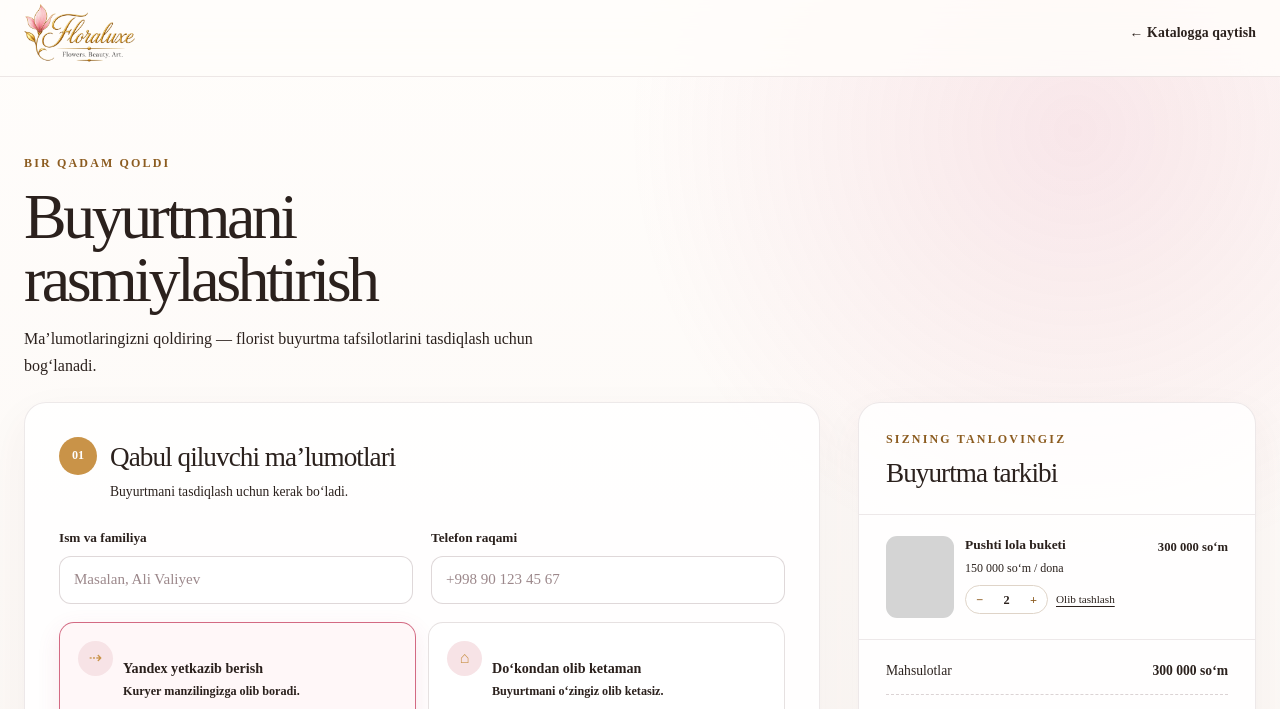
it: CheckoutClient › keeps the cart intact and announces a safe server error on failure
Expected: the heading "Pushti lola buketi" is shown, x1=965 y1=537 x2=1066 y2=552
Type "Ali Valiyev" into the field labelled "Ism va familiya" at point(236, 580), box x1=59 y1=556 x2=413 y2=604
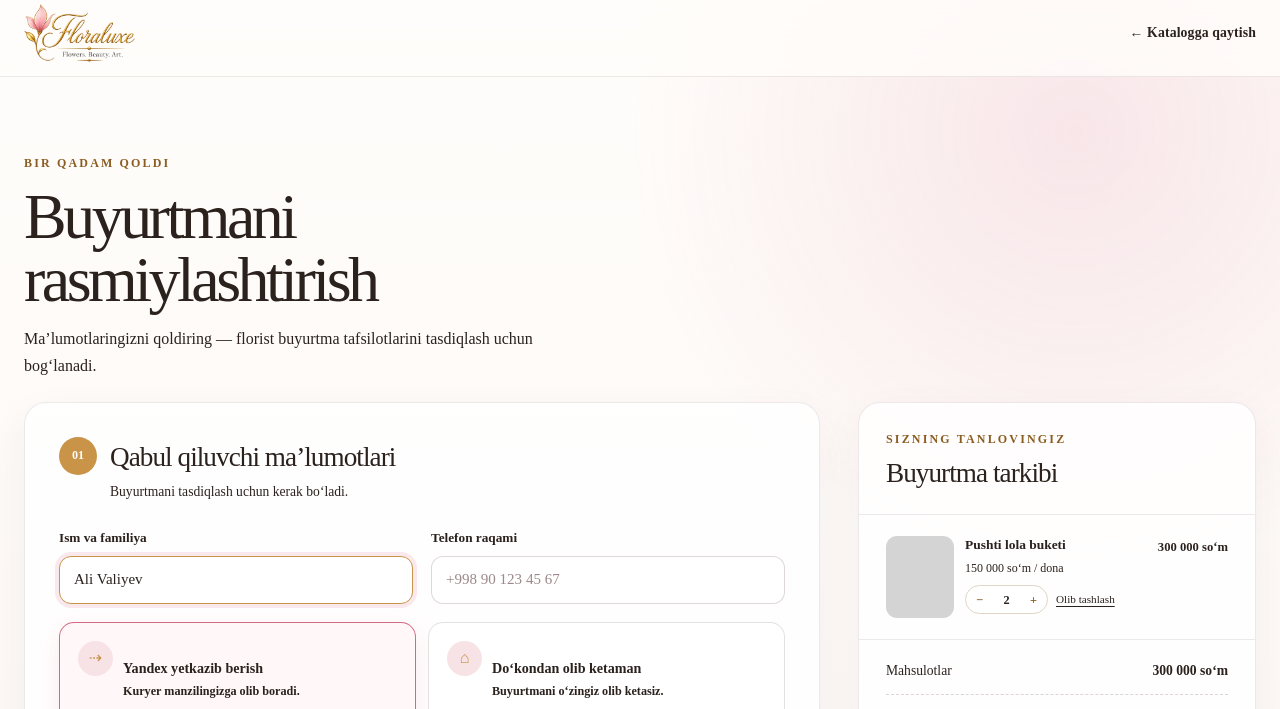
Type "+998901234567" into the field labelled "Telefon raqami" at point(608, 580), box x1=431 y1=556 x2=785 y2=604
(page scrolled)
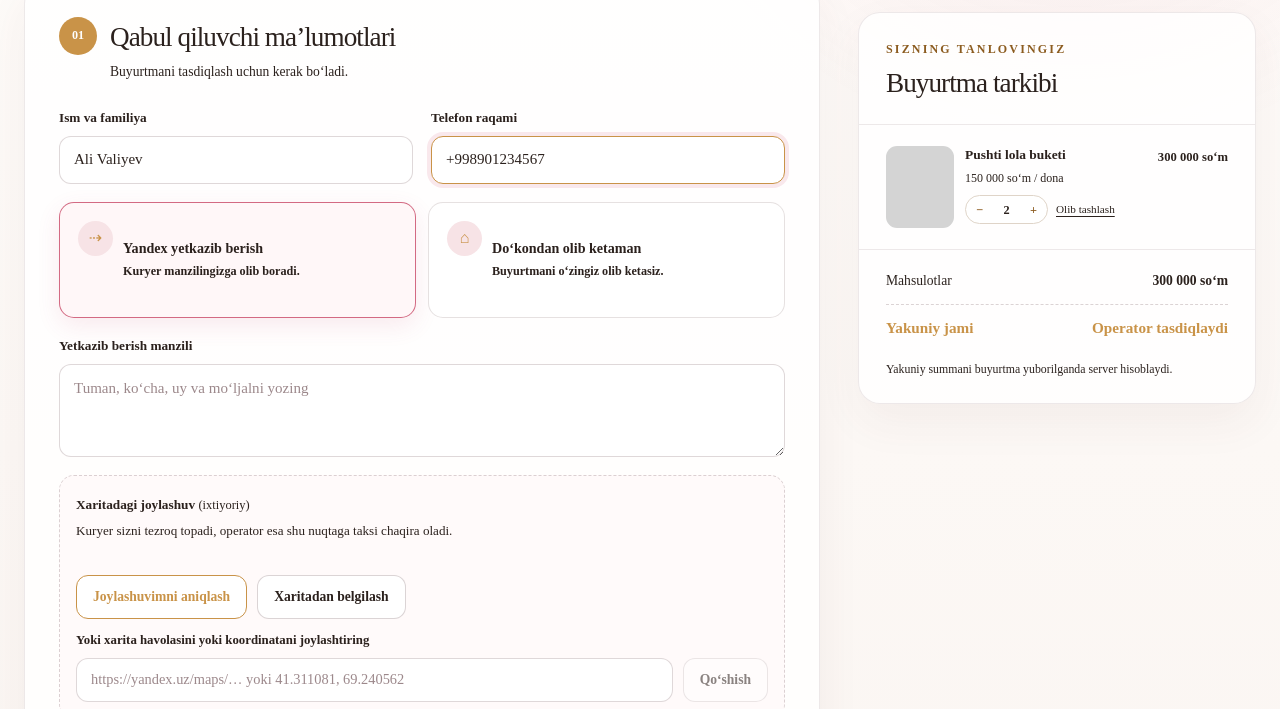
Type "Toshkent shahri, Chilonzor tumani" into the text box labelled "Yetkazib berish manzili" at point(422, 410), box x1=59 y1=364 x2=785 y2=457
(page scrolled)
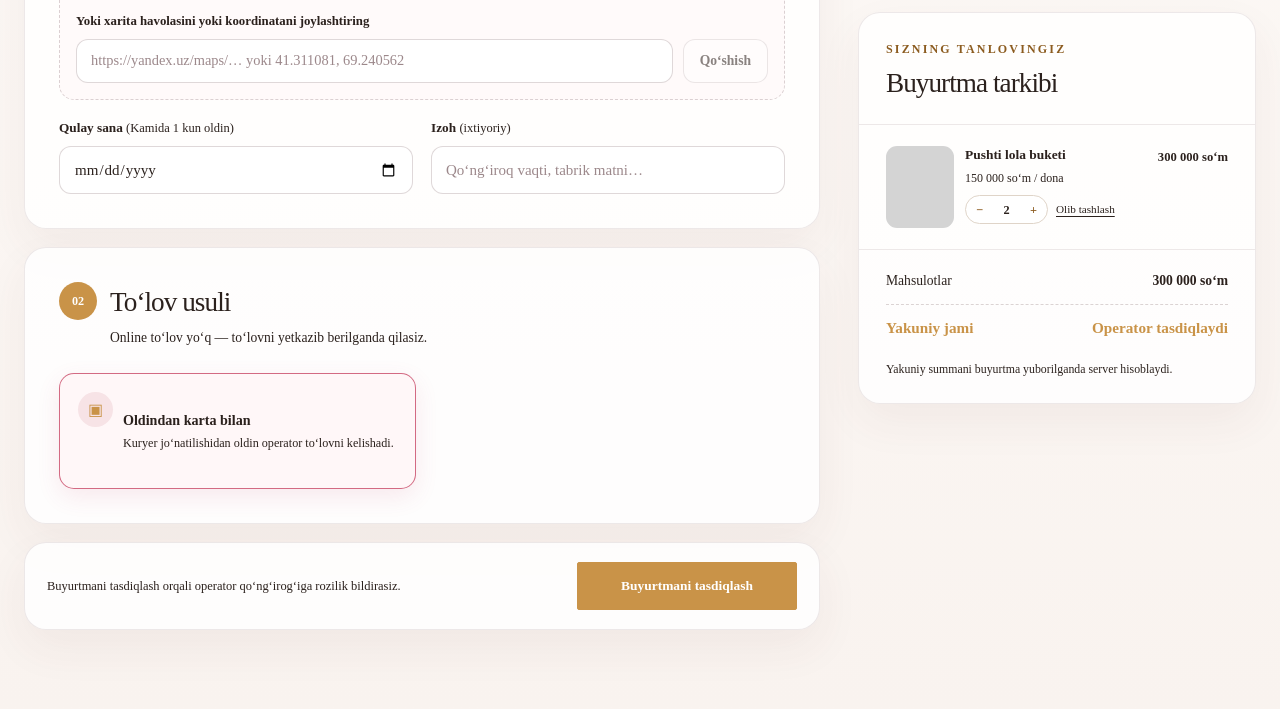
Click the button "Buyurtmani tasdiqlash" at point(687, 586), box x1=577 y1=562 x2=797 y2=610
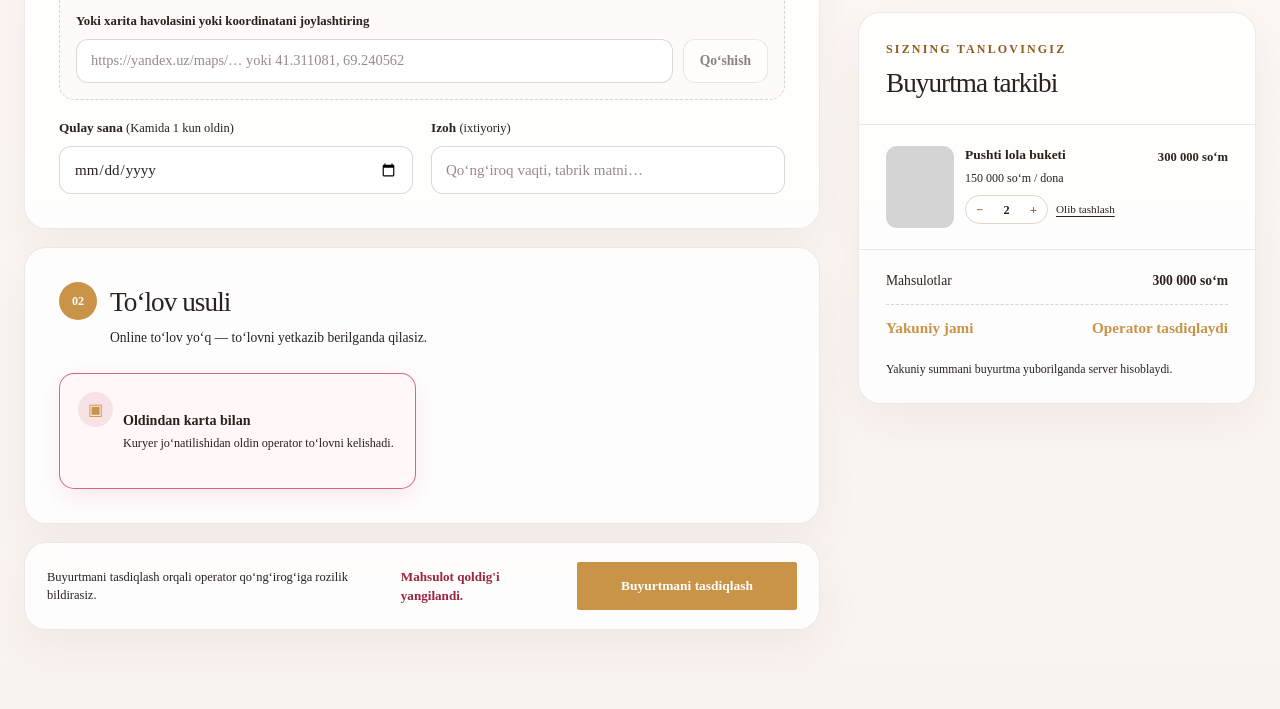
Expected: the message shows "Mahsulot qoldig'i", x1=401 y1=569 x2=500 y2=603
